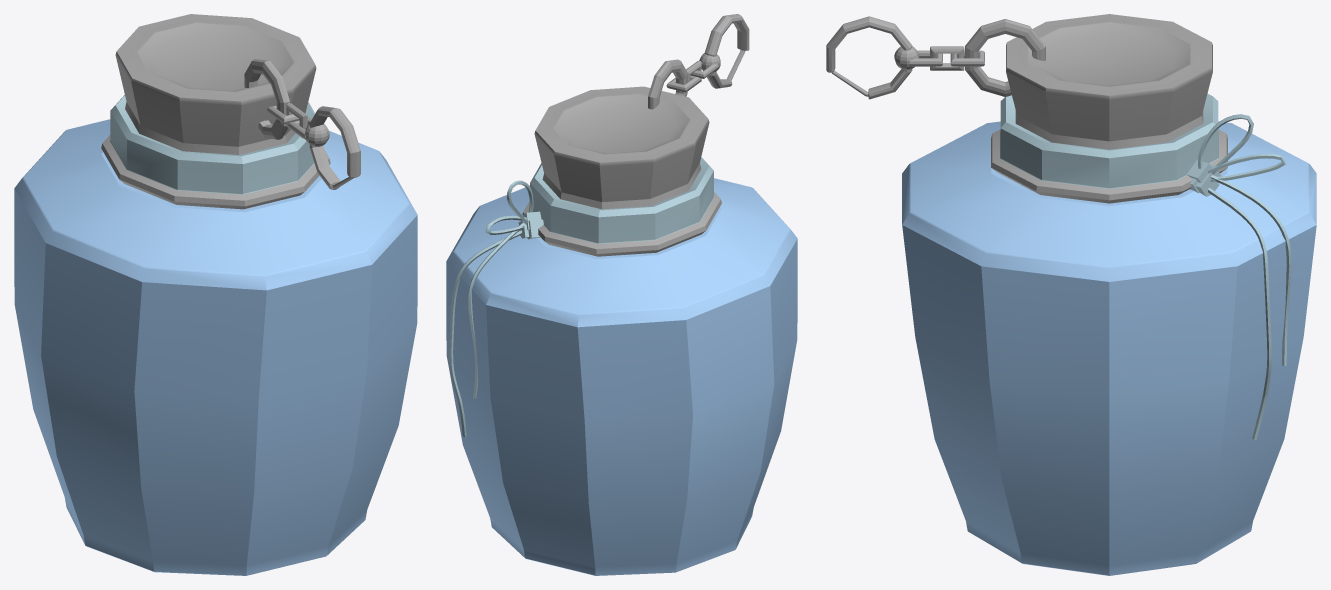
File: Faithbottle.fbx
The picture shows the model from 3 angles, left to right: view 1: azimuth 30°, elevation 25°; view 2: azimuth 150°, elevation 25°; view 3: azimuth 270°, elevation 25°; orthographic projection. The views are drawn at different scales.
Parts seen in each view (by area): view 1: Bottle, BottleCap, Bottlecoverthing, Bottle_ribbon, keyring, Ring; view 2: Bottle, BottleCap, Bottlecoverthing, ribbon, Bottle_ribbon, keyring, Ring; view 3: Bottle, BottleCap, Bottlecoverthing, ribbon, Bottle_ribbon, keyring, Ring.
Boxes of the visible parts, x1,y1,x2,y2 form: Bottle: (14,119,417,575); BottleCap: (115,14,316,154); Bottlecoverthing: (110,95,315,194); Bottle_ribbon: (101,135,330,209); keyring: (305,106,360,189); Ring: (244,59,289,139); Bottle: (446,178,797,575); BottleCap: (534,86,709,209); Bottlecoverthing: (530,157,714,243); ribbon: (449,180,543,436); Bottle_ribbon: (522,192,721,256); keyring: (699,14,749,88); Ring: (648,59,687,109); Bottle: (902,121,1316,575); BottleCap: (1006,14,1212,149); Bottlecoverthing: (1000,93,1218,188); ribbon: (1186,114,1291,439); Bottle_ribbon: (991,129,1227,203); keyring: (826,16,919,99); Ring: (965,19,1045,96).
Size of the model in its own units: 9.52 by 12.87 by 11.55.
